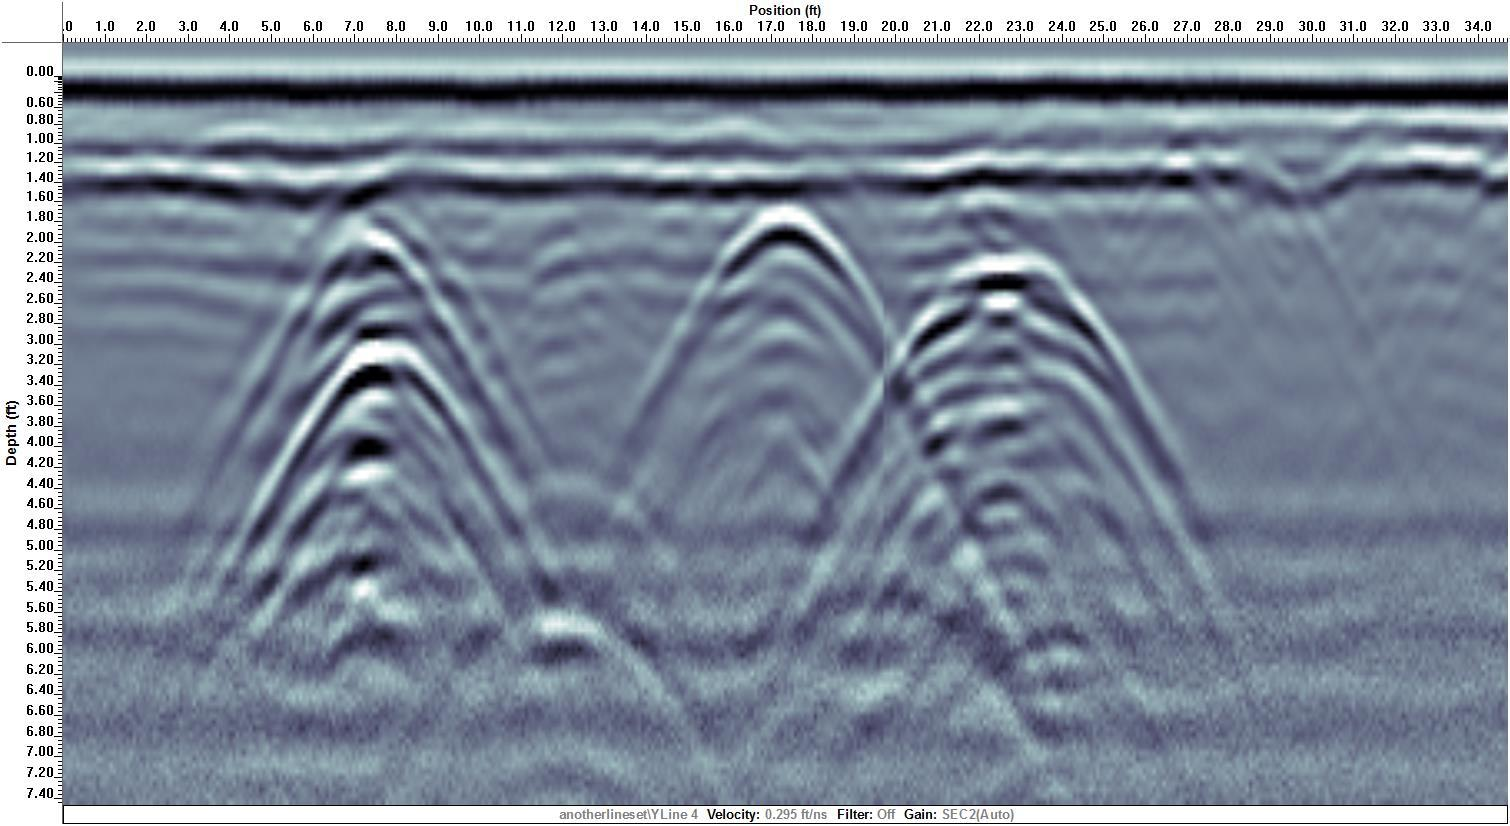hyperbola: (877, 233, 1148, 523), (262, 208, 494, 486), (687, 181, 891, 464), (260, 321, 483, 569)
